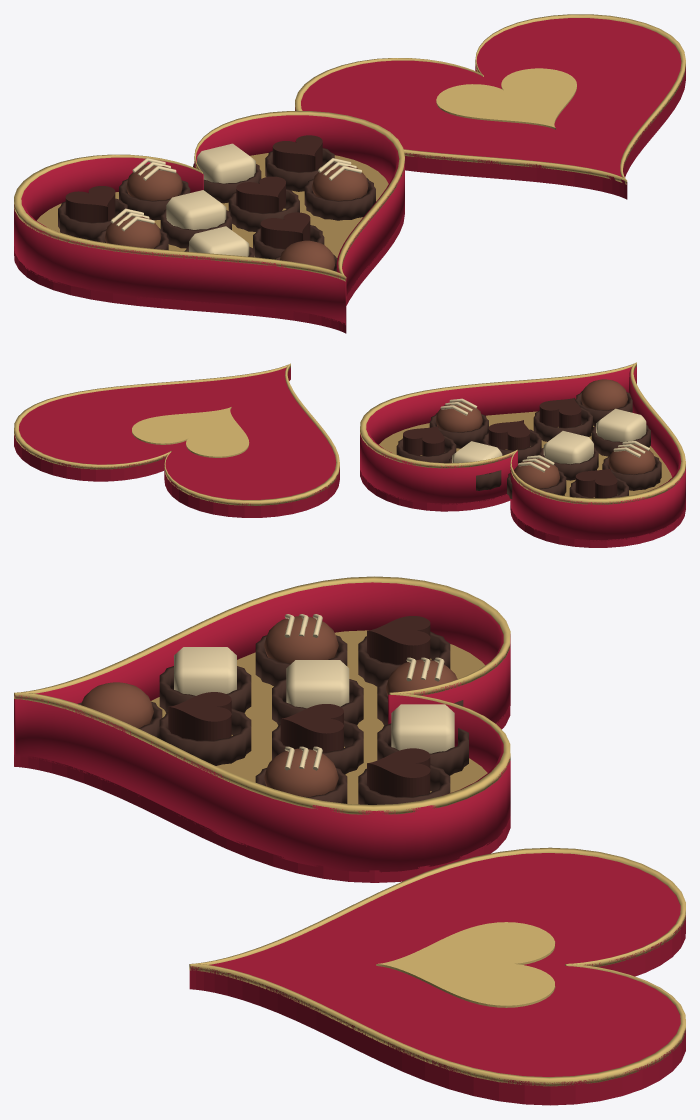
Rendered from P003_heart_chocolates_rebuilt.glb.
3 views of the same model, one above another, from view 1: azimuth 30°, elevation 25°; view 2: azimuth 150°, elevation 25°; view 3: azimuth 270°, elevation 25° (orthographic). The views are drawn at different scales.
Visible parts, largest first — view 1: Heart_box_red_paper, Heart_box_gilt_edge, Pleated_cocoa_paper_cups, White_chocolate, Dark_chocolate, Milk_chocolate, Molded_gold_candy_tray; view 2: Heart_box_red_paper, Heart_box_gilt_edge, Pleated_cocoa_paper_cups, Dark_chocolate, White_chocolate, Milk_chocolate, Molded_gold_candy_tray; view 3: Heart_box_red_paper, Heart_box_gilt_edge, Pleated_cocoa_paper_cups, Dark_chocolate, White_chocolate, Milk_chocolate, Molded_gold_candy_tray.
Boxes of the visible parts, <box> form: Heart_box_red_paper: <box>14,18,685,333</box>; Heart_box_gilt_edge: <box>14,14,685,281</box>; Pleated_cocoa_paper_cups: <box>58,148,375,271</box>; White_chocolate: <box>110,143,361,256</box>; Dark_chocolate: <box>65,135,322,248</box>; Milk_chocolate: <box>104,164,368,270</box>; Molded_gold_candy_tray: <box>37,153,388,257</box>; Heart_box_red_paper: <box>14,366,685,547</box>; Heart_box_gilt_edge: <box>14,362,685,505</box>; Pleated_cocoa_paper_cups: <box>396,391,661,498</box>; Dark_chocolate: <box>403,397,617,498</box>; White_chocolate: <box>440,398,649,472</box>; Milk_chocolate: <box>435,379,655,488</box>; Molded_gold_candy_tray: <box>379,411,672,497</box>; Heart_box_red_paper: <box>14,582,685,1105</box>; Heart_box_gilt_edge: <box>14,576,685,1086</box>; Pleated_cocoa_paper_cups: <box>78,631,468,804</box>; Dark_chocolate: <box>168,616,430,797</box>; White_chocolate: <box>174,614,454,770</box>; Milk_chocolate: <box>81,616,457,797</box>; Molded_gold_candy_tray: <box>151,630,487,804</box>.
Size of the model in its own units: 0.46 by 0.0401 by 0.2872.
